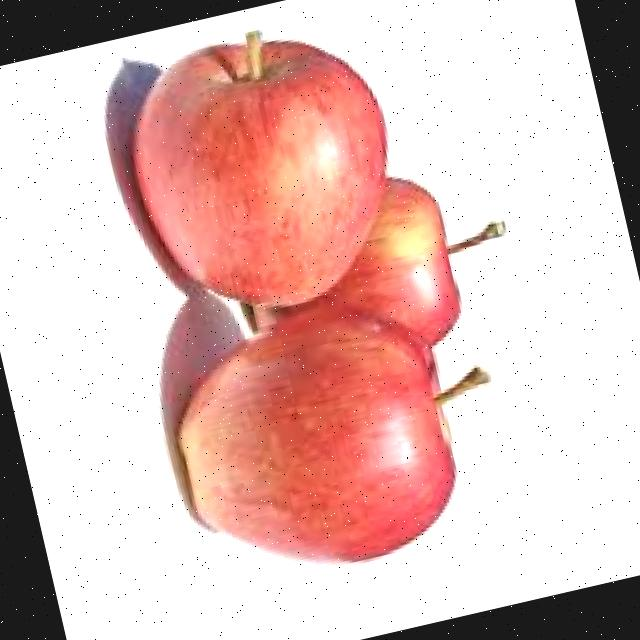apple: (154, 272, 524, 593), (110, 5, 422, 332)
